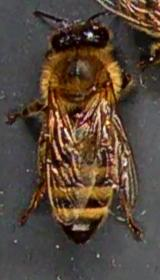varroa_mite: (67, 110, 90, 126)
